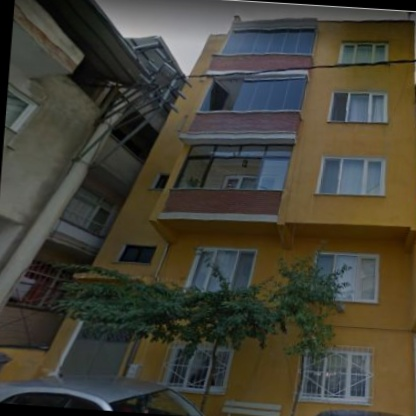door: (61, 329, 132, 378), (319, 251, 381, 302), (203, 248, 256, 291), (186, 257, 221, 292)
